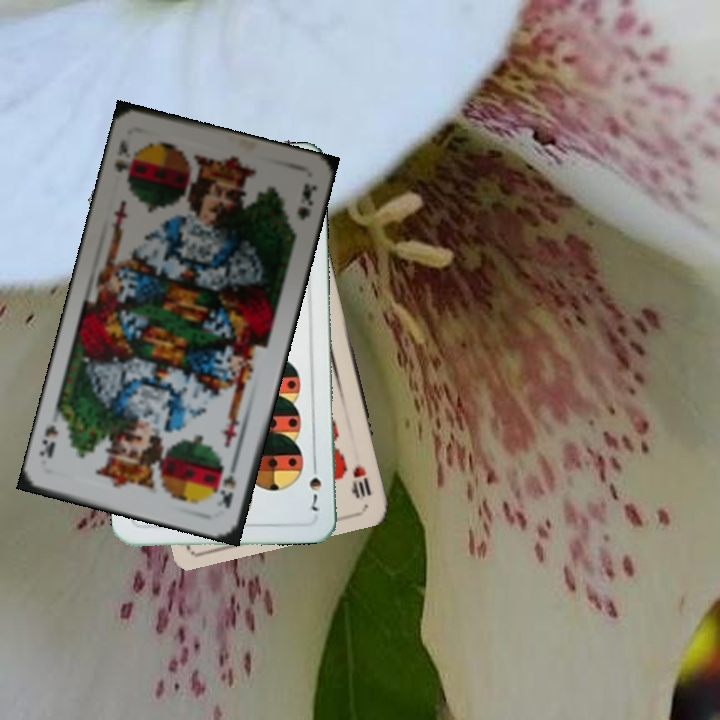H10: (349, 461, 374, 501)
S7: (305, 457, 324, 514)
SK: (110, 135, 141, 186), (215, 456, 241, 511)
